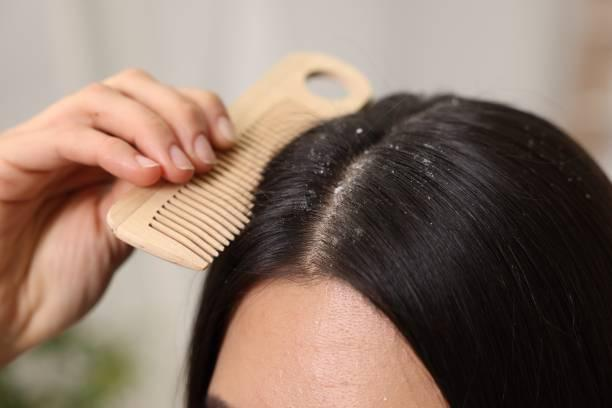dandruff: (282, 188, 325, 214), (409, 148, 441, 182), (299, 147, 331, 179), (345, 221, 368, 241), (347, 124, 366, 139), (384, 166, 402, 176)
